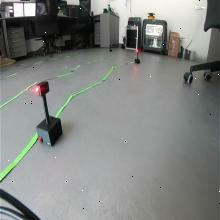red: (35, 80, 49, 96)
